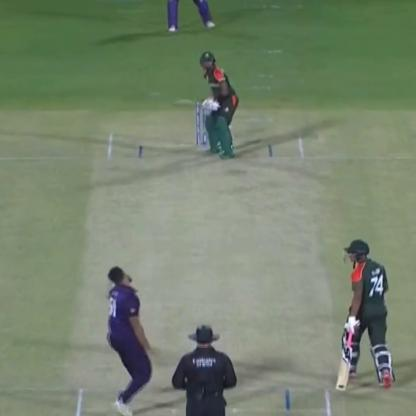bat: (329, 310, 362, 401), (167, 94, 220, 113)
pitch: (73, 126, 339, 414)
